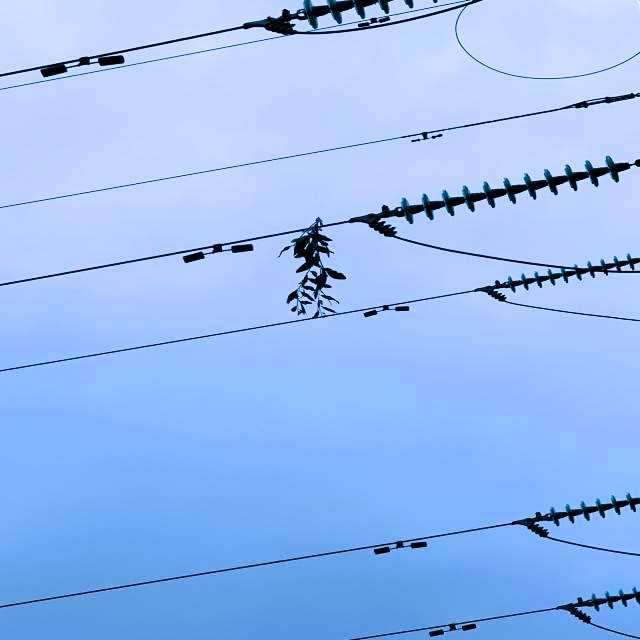wire foreign body: (268, 203, 350, 326)
